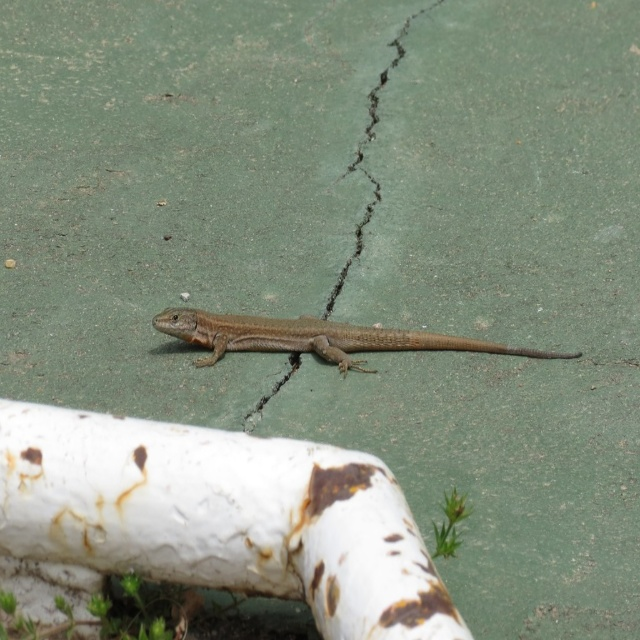Lizard: (169, 223, 597, 408)
